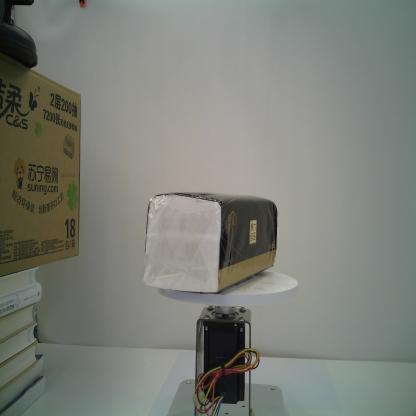Tissue: (139, 190, 277, 296)
